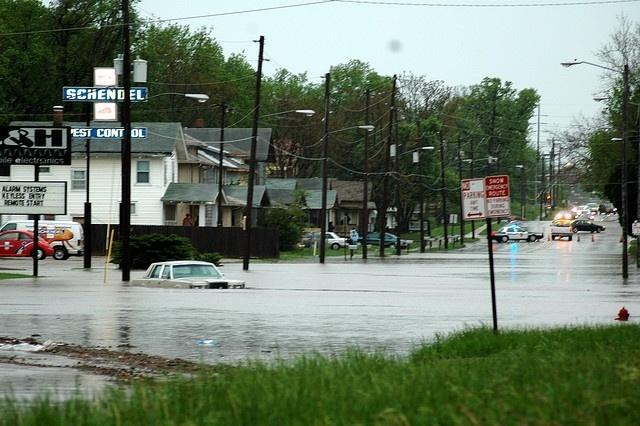car: (1, 220, 84, 259), (139, 260, 239, 289), (1, 235, 55, 261), (490, 223, 544, 243), (360, 232, 412, 252), (301, 231, 349, 250), (550, 213, 578, 241), (573, 220, 605, 234), (631, 219, 640, 236)
